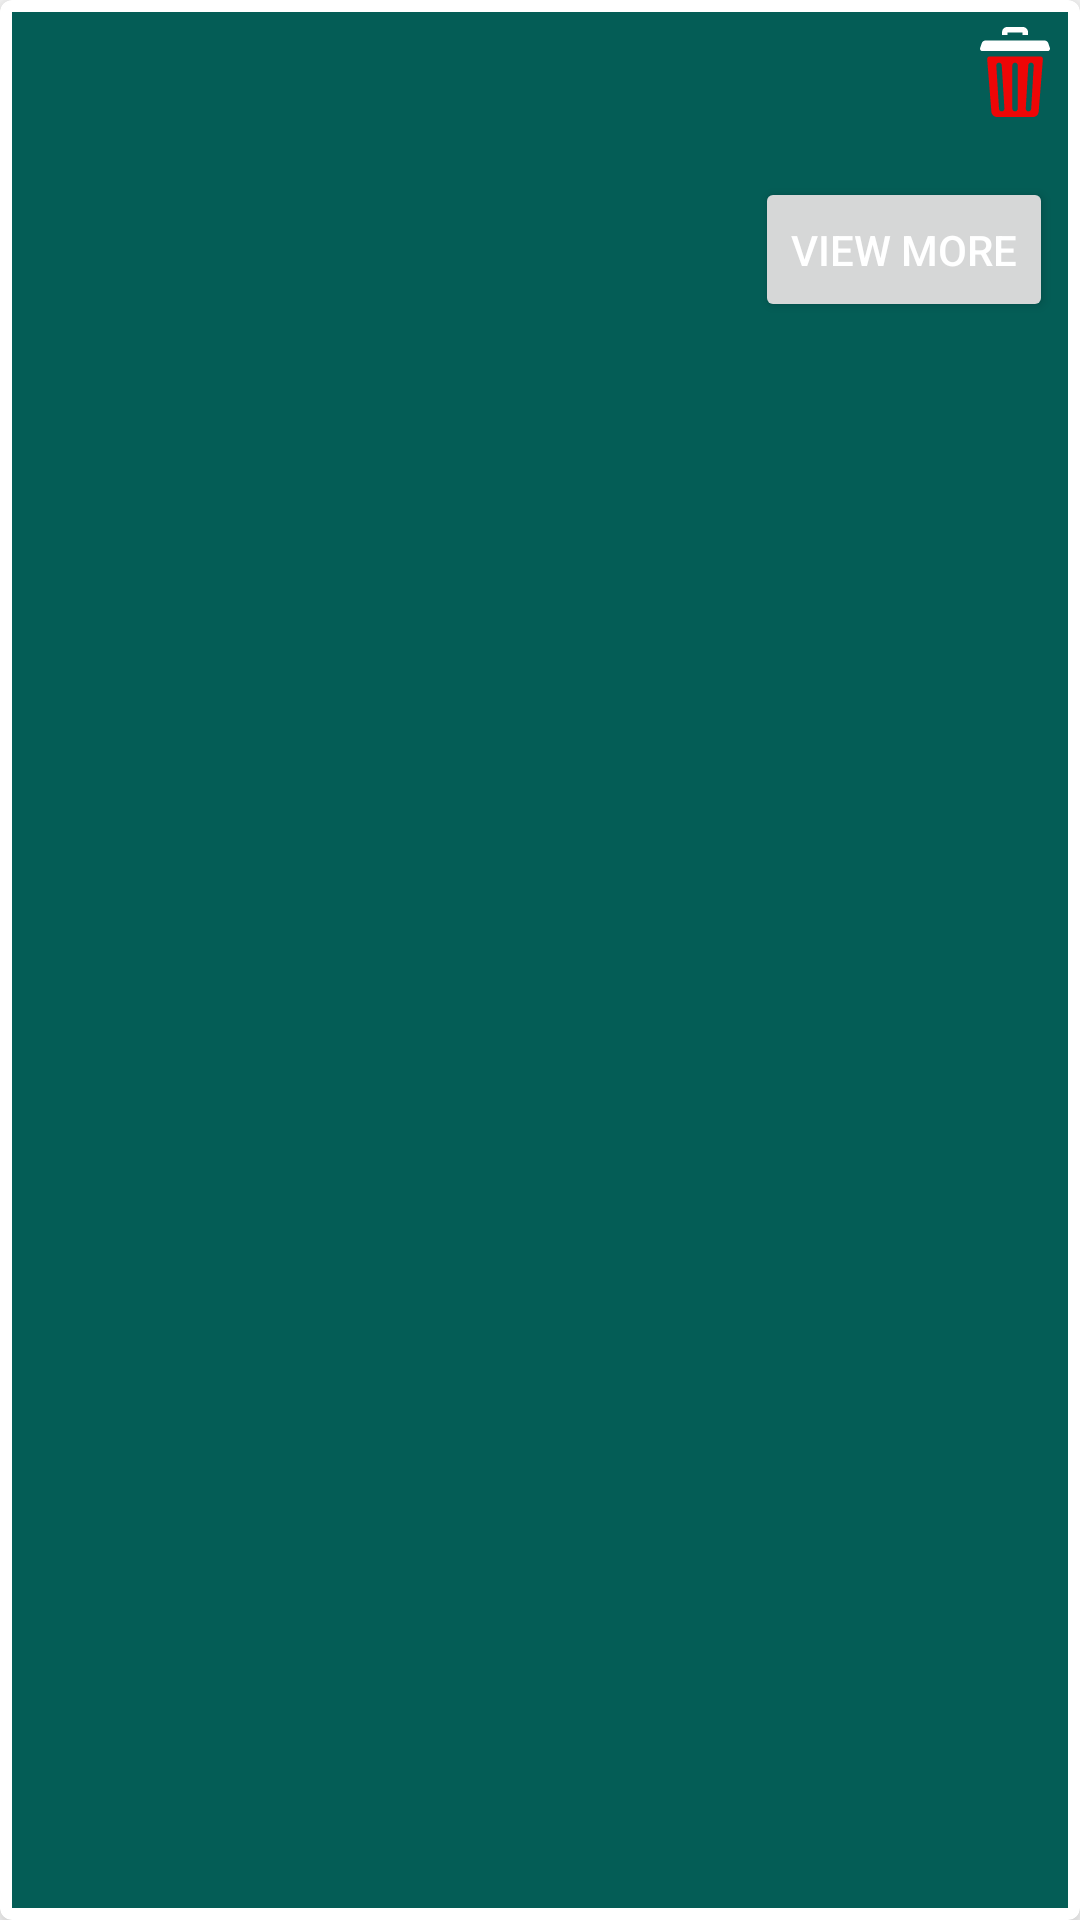

Icon bounding boxes for this 1080px x 1920px phone screenshot, format (x1,y1,x2,y2):
bin: (980,27,1050,117)
